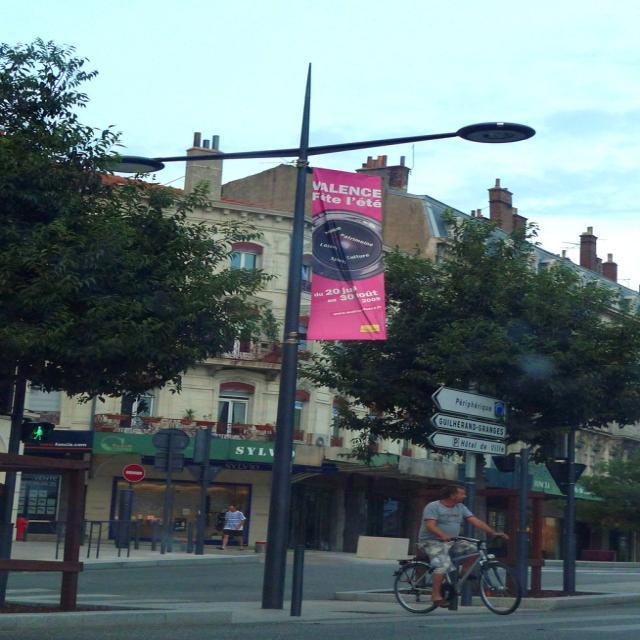traffic light: (24, 421, 56, 443)
